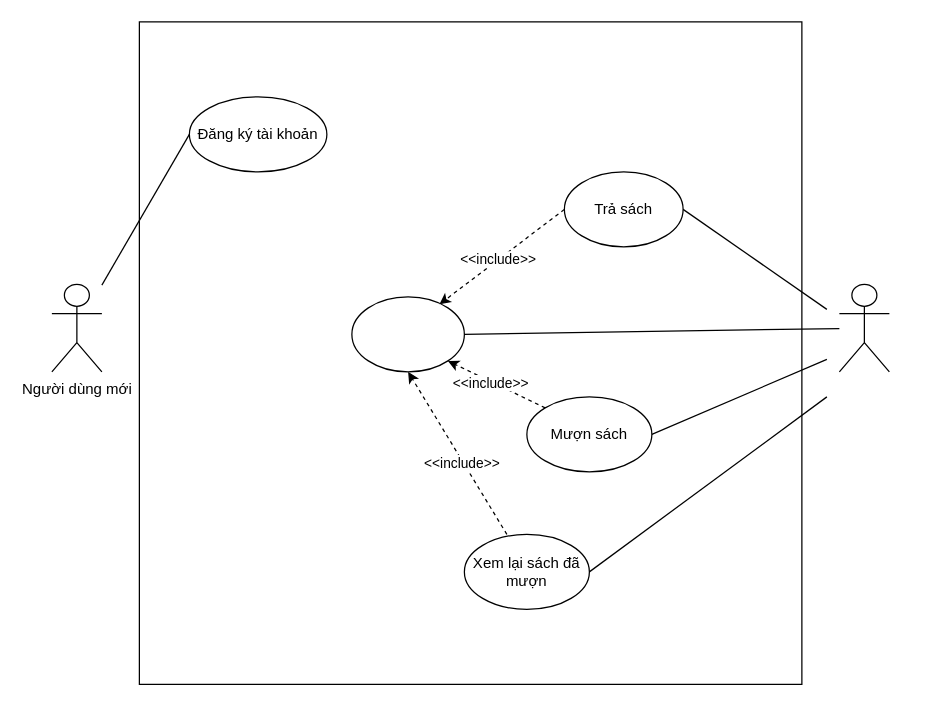
The diagram is 925 pixels wide and 706 high, and some of its shapes have lost their labels. Here are the shapes that lost their labels. From the top down, the centre of each, then its label:
[407,334]: Đăng nhập
[863,327]: Người dùng
